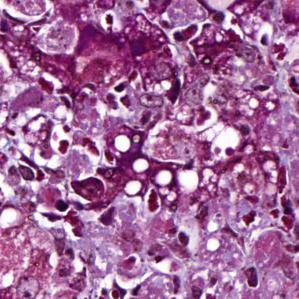ballooning: (175, 104, 243, 159)
